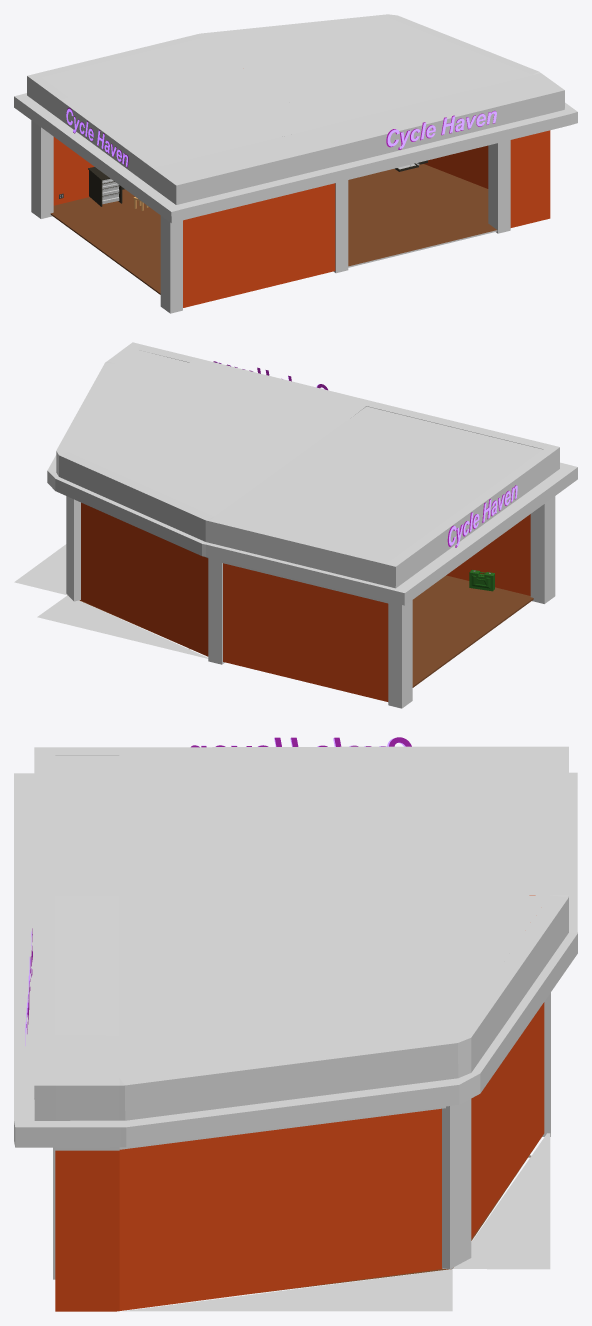
Rendered from BikeShop.fbx.
The picture shows the model from 3 angles, top to bottom: view 1: azimuth 30°, elevation 25°; view 2: azimuth 150°, elevation 25°; view 3: azimuth 270°, elevation 25°; orthographic projection. The views are drawn at different scales.
Parts seen in each view (by area): view 1: BikeShop.001, BikeShopPillar.008, BikeShopPillar.007, BikeShopPillar.011, BikeShopPillar.009, Table.002, ShopTitle.001, ShopTitle.002, ShopTitle.004; view 2: BikeShop.001, BikeShopPillar.007, BikeShopPillar.008, BikeShopPillar.010, BikeShopPillar.006, ShopTitle.002, Camouflage suitcase with relief.002; view 3: BikeShop.001, BikeShopPillar.006, BikeShopPillar.010.
Part boxes in pixels (box(x1,y1,x2,y2)): BikeShop.001: box(14, 14, 577, 307); BikeShopPillar.008: box(160, 215, 182, 313); BikeShopPillar.007: box(31, 120, 53, 218); BikeShopPillar.011: box(488, 140, 510, 233); BikeShopPillar.009: box(333, 180, 348, 273); Table.002: box(88, 167, 124, 206); ShopTitle.001: box(387, 111, 496, 148); ShopTitle.002: box(66, 108, 127, 166); ShopTitle.004: box(386, 110, 495, 149); BikeShop.001: box(14, 342, 577, 701); BikeShopPillar.007: box(388, 600, 412, 708); BikeShopPillar.008: box(530, 496, 555, 603); BikeShopPillar.010: box(208, 557, 224, 664); BikeShopPillar.006: box(66, 496, 80, 601); ShopTitle.002: box(449, 485, 517, 546); Camouflage suitcase with relief.002: box(469, 570, 494, 591); BikeShop.001: box(14, 746, 577, 1311); BikeShopPillar.006: box(442, 1099, 471, 1269); BikeShopPillar.010: box(542, 992, 550, 1136).
Size of the model in its own units: 1198 by 383 by 804.
